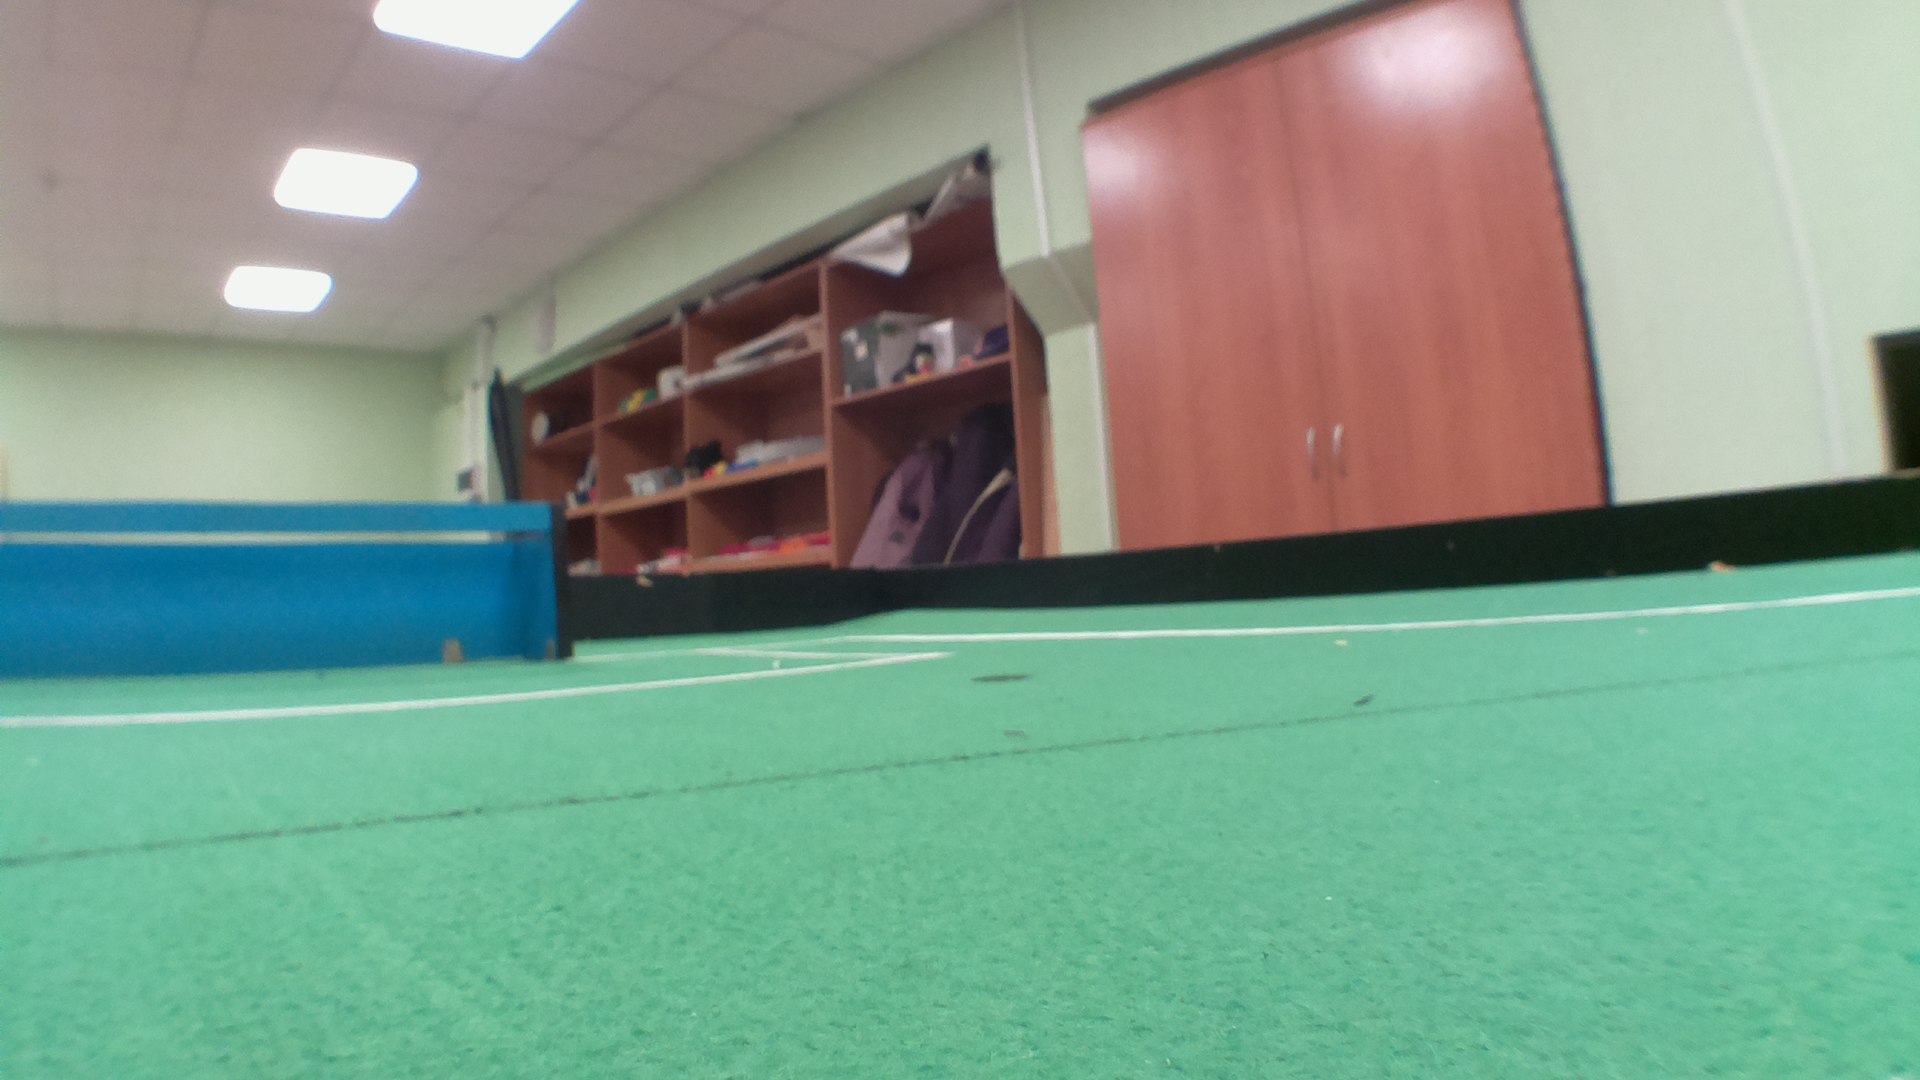BlueGoal: (1, 505, 549, 678)
